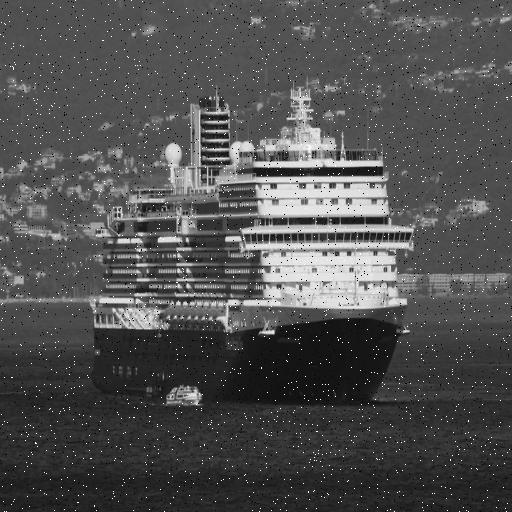cruises: (91, 86, 416, 412)
